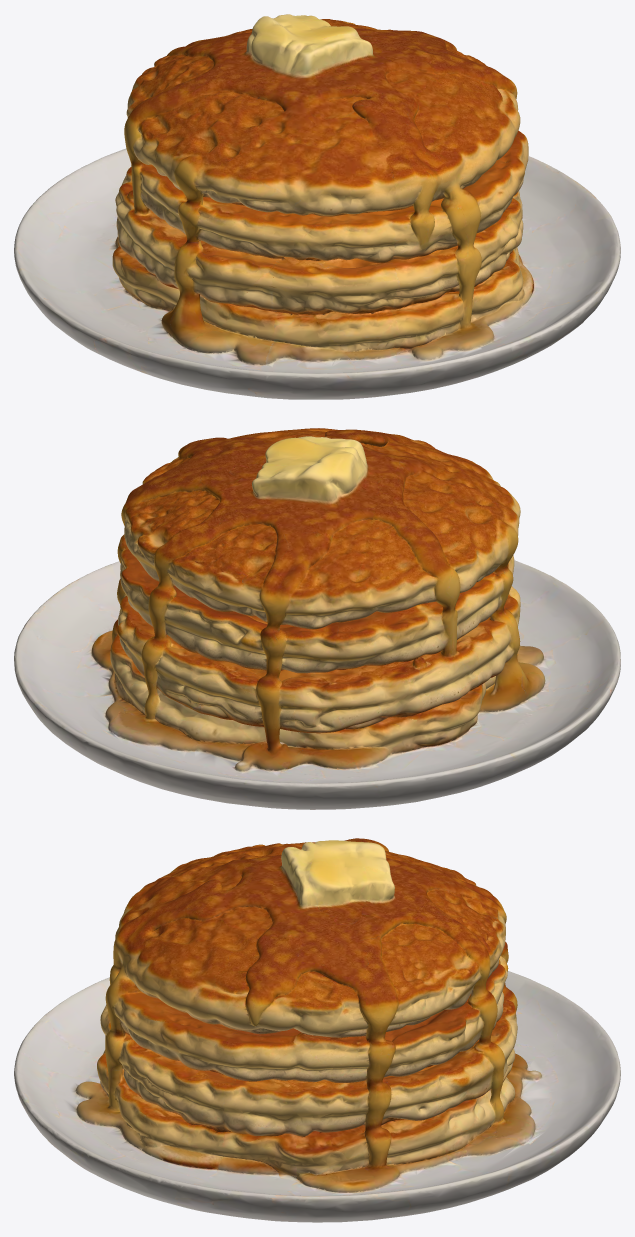
The picture shows the model from 3 angles, top to bottom: view 1: azimuth 30°, elevation 25°; view 2: azimuth 150°, elevation 25°; view 3: azimuth 270°, elevation 25°; orthographic projection.
Bounding box in the file's own units: 1.9 × 0.901 × 1.9.
1 material, 1 textured.
